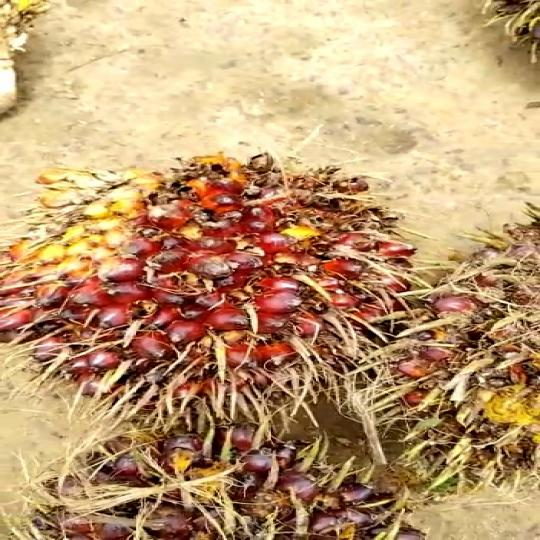masak: (0, 130, 423, 440)
